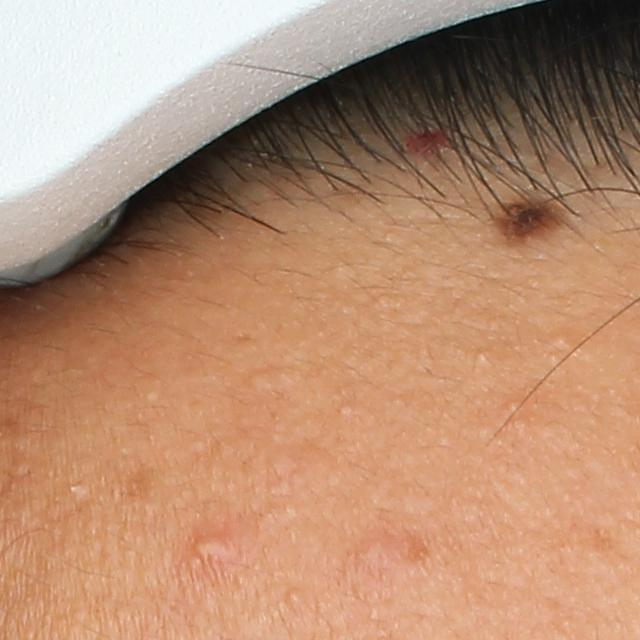comedo: (245, 365, 274, 394), (282, 586, 305, 609), (65, 480, 86, 499), (552, 333, 573, 350), (474, 350, 491, 367), (336, 402, 352, 414)
nevus: (495, 194, 575, 244)
